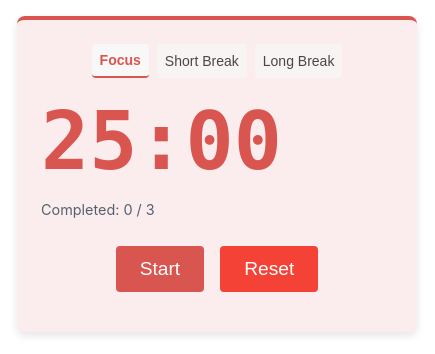
Test: PomodoroTimer.vue › starts and pauses the timer
Note: Start timer
Click the button with class "start" at (160, 268), box [116,246,204,292]
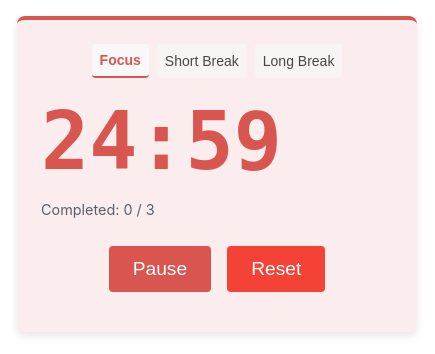
Result: the button with class "start" reads "Pause"
Note: Pause timer
Click the button with class "start" at (160, 268), box [109,246,211,292]
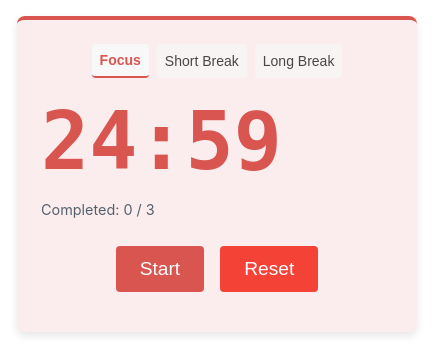
Result: the button with class "start" reads "Start" at [116,246,204,292]
